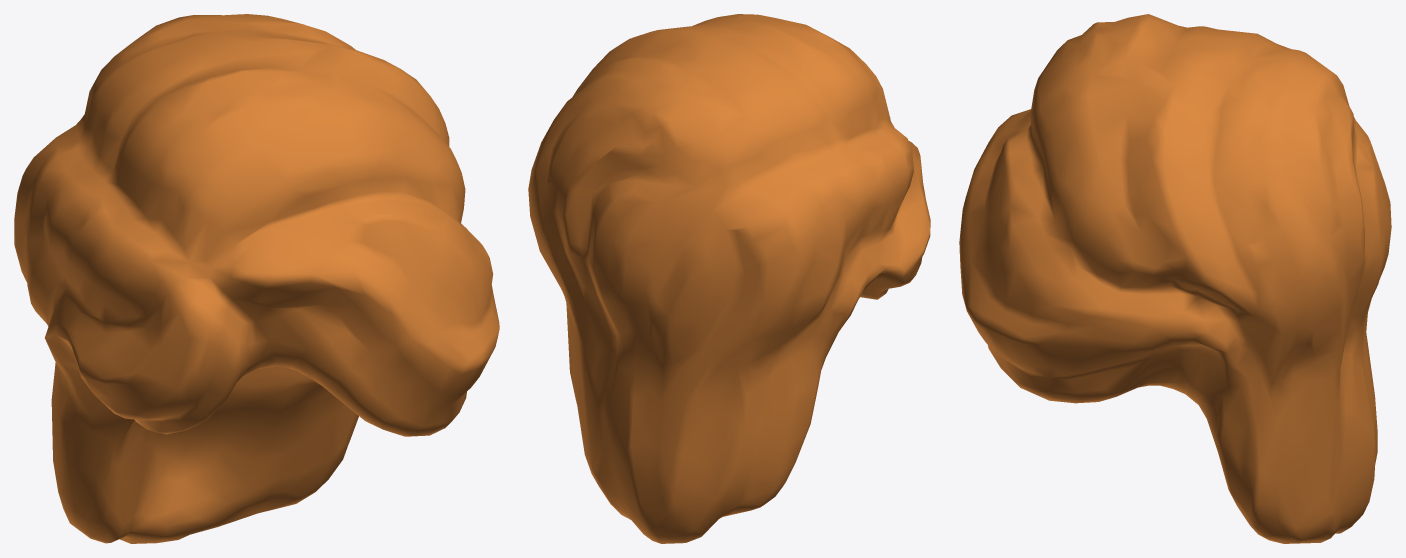
File: SM_Dx_Hair_Female_01.glb
3 renders of one model, left to right at view 1: azimuth 30°, elevation 25°; view 2: azimuth 150°, elevation 25°; view 3: azimuth 270°, elevation 25°, orthographic. The views are drawn at different scales.
Visible parts, largest first — view 1: SM_ATB_Abbi__Hair_01; view 2: SM_ATB_Abbi__Hair_01; view 3: SM_ATB_Abbi__Hair_01.
Part boxes in pixels (box(x1,y1,x2,y2)): SM_ATB_Abbi__Hair_01: box(14, 14, 499, 543); SM_ATB_Abbi__Hair_01: box(528, 14, 930, 543); SM_ATB_Abbi__Hair_01: box(959, 14, 1391, 543).
Bounding box in the file's own units: 1.05 × 1.4 × 1.12.
